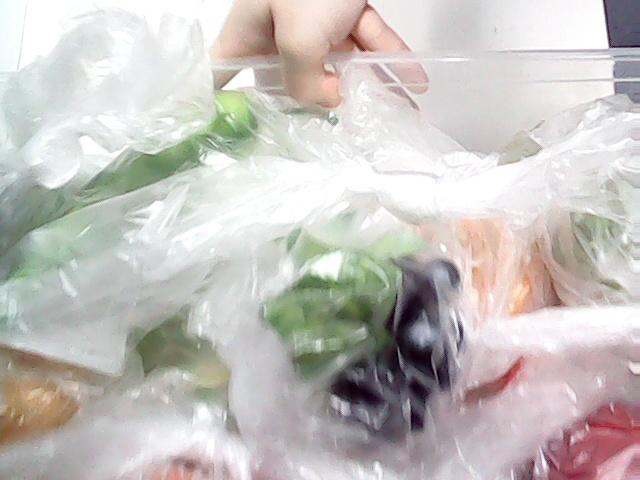apple: (495, 392, 640, 480)
carrot: (496, 307, 572, 405)
grape: (308, 246, 472, 454)
lemon: (434, 188, 562, 320)
napa cabbage: (122, 304, 276, 440)
peach: (105, 456, 279, 480)
pepper: (0, 84, 266, 288)
potato: (1, 341, 95, 457)
